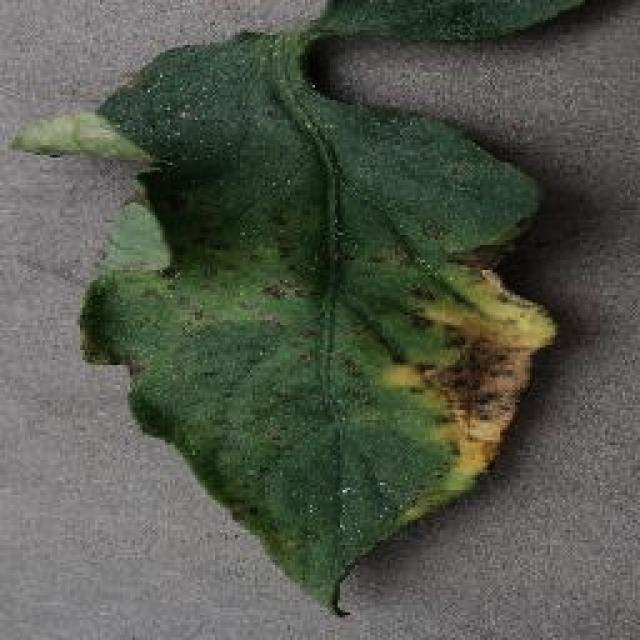Tomato bacterial spot leaf: (1, 41, 562, 626)
